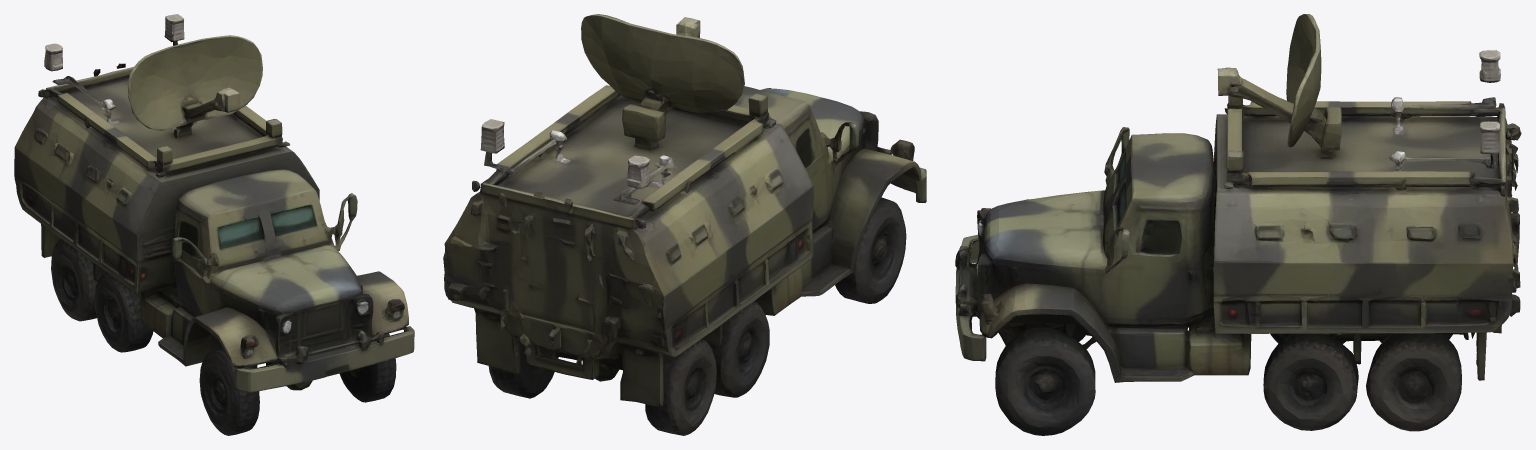
File: 320dad4e-2405-4cc0-8642-9741fa9ccaea.glb
The picture shows the model from 3 angles, left to right: view 1: azimuth 30°, elevation 25°; view 2: azimuth 150°, elevation 25°; view 3: azimuth 270°, elevation 25°; orthographic projection. The views are drawn at different scales.
Visible parts, largest first — view 1: geometry_0; view 2: geometry_0; view 3: geometry_0.
Part boxes in pixels (bbox=[...]): geometry_0: bbox=[14, 14, 414, 435]; geometry_0: bbox=[443, 14, 926, 435]; geometry_0: bbox=[955, 14, 1521, 435].
Size of the model in its own units: 0.4568 by 0.6763 by 0.9915.
1 material, 1 textured.
